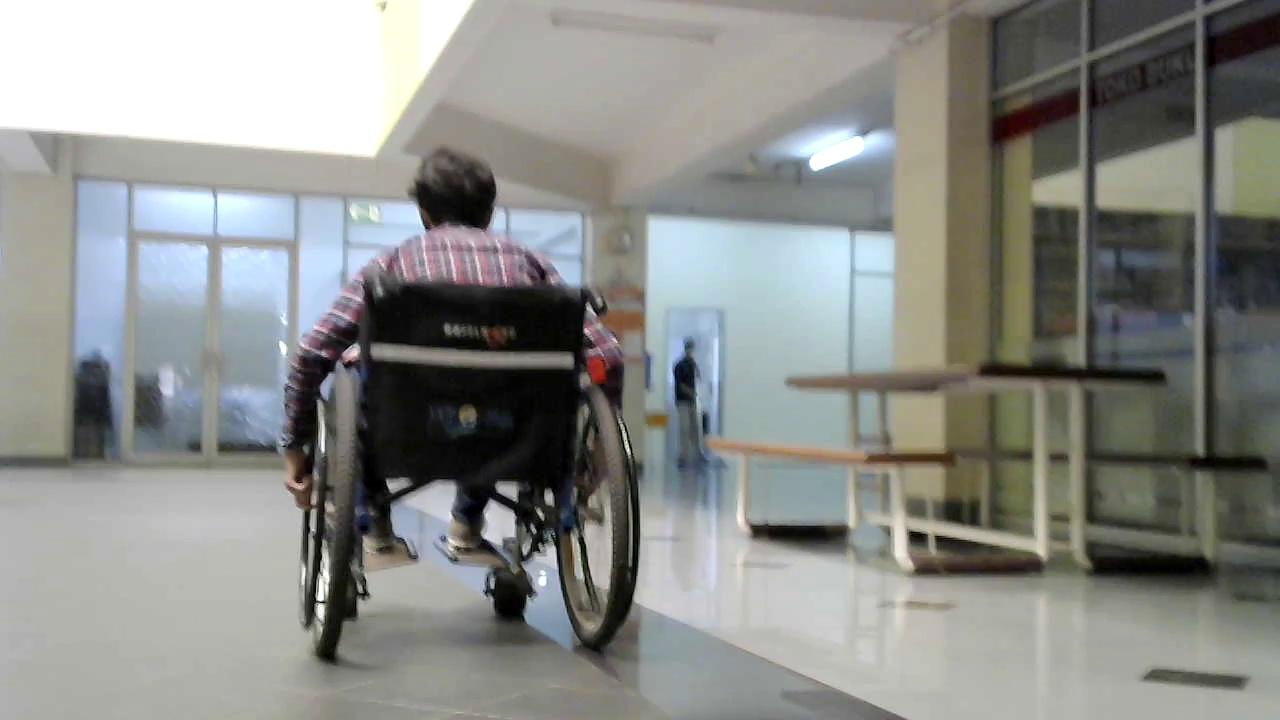person: (276, 143, 639, 598)
wheelchair: (274, 254, 658, 672)
